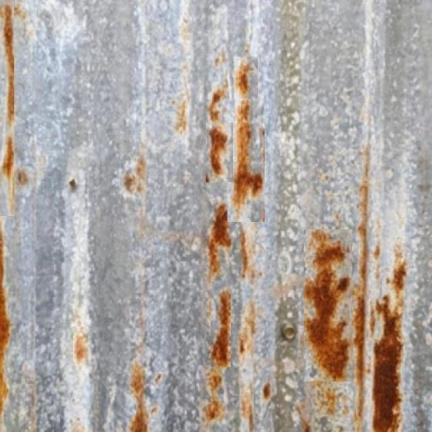karat: (304, 229, 352, 414), (373, 249, 406, 431), (354, 142, 369, 431), (232, 99, 263, 216), (0, 217, 10, 418), (207, 203, 230, 280), (1, 4, 14, 127), (211, 288, 230, 367), (130, 362, 148, 431), (2, 132, 14, 213), (209, 126, 227, 176), (236, 62, 250, 85)
